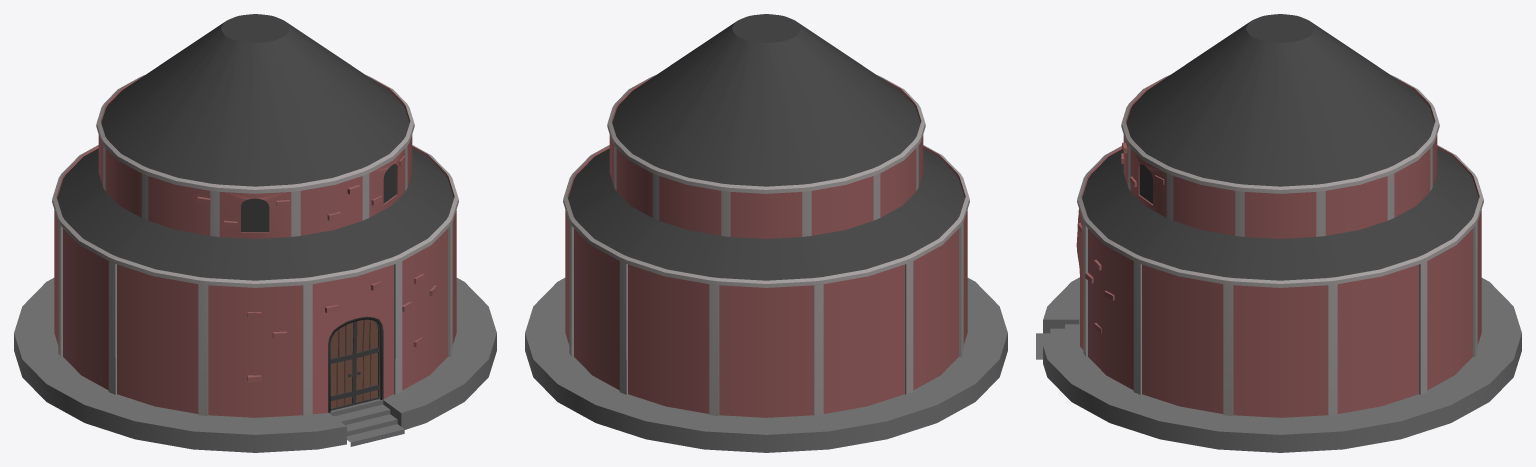
Rendered from Round building 1.fbx.
The picture shows the model from 3 angles, left to right: view 1: azimuth 30°, elevation 25°; view 2: azimuth 150°, elevation 25°; view 3: azimuth 270°, elevation 25°; orthographic projection.
Parts seen in each view (by area): view 1: Round building, Door.r, Door.l; view 2: Round building; view 3: Round building.
Boxes of the visible parts, x1,y1,x2,y2 form: Round building: [14, 14, 496, 452]; Door.r: [354, 319, 379, 404]; Door.l: [330, 321, 355, 410]; Round building: [525, 14, 1007, 452]; Round building: [1036, 14, 1521, 452].
Size of the model in its own units: 2005 by 1477 by 2017.
